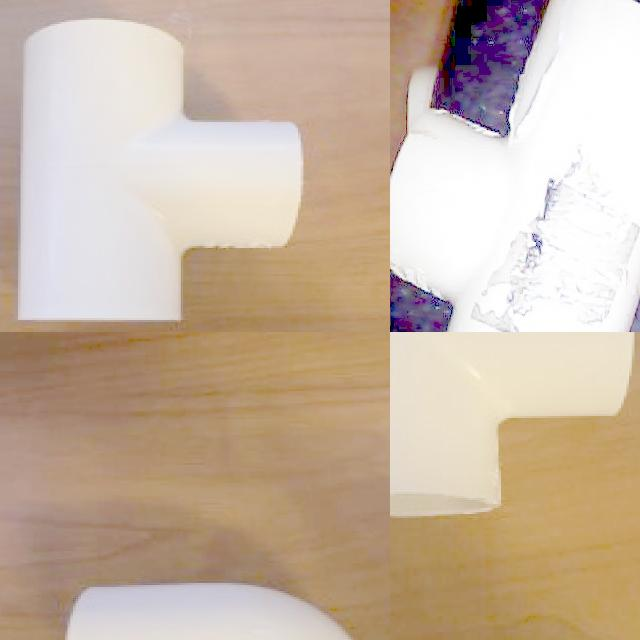Defective: (484, 155, 640, 332), (496, 0, 590, 139)
L Joint: (63, 583, 353, 640)
T Joint: (15, 18, 304, 325), (390, 0, 640, 332), (390, 332, 636, 521)
